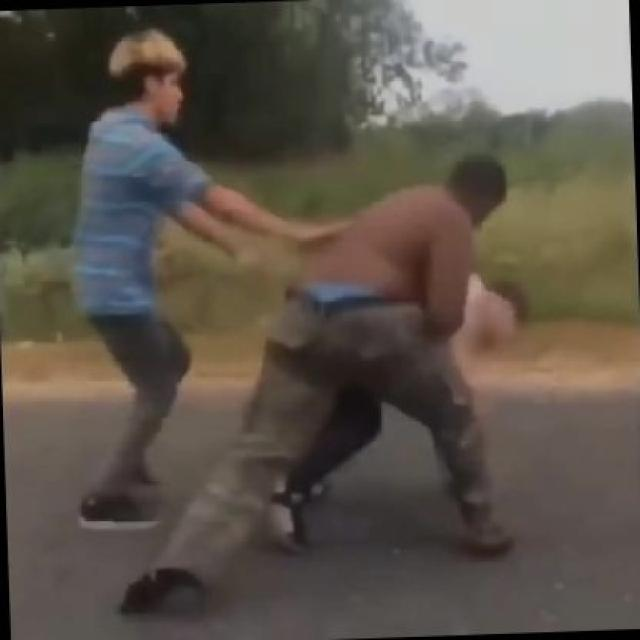fight: (113, 149, 534, 619)
non-fight: (71, 18, 354, 526)
